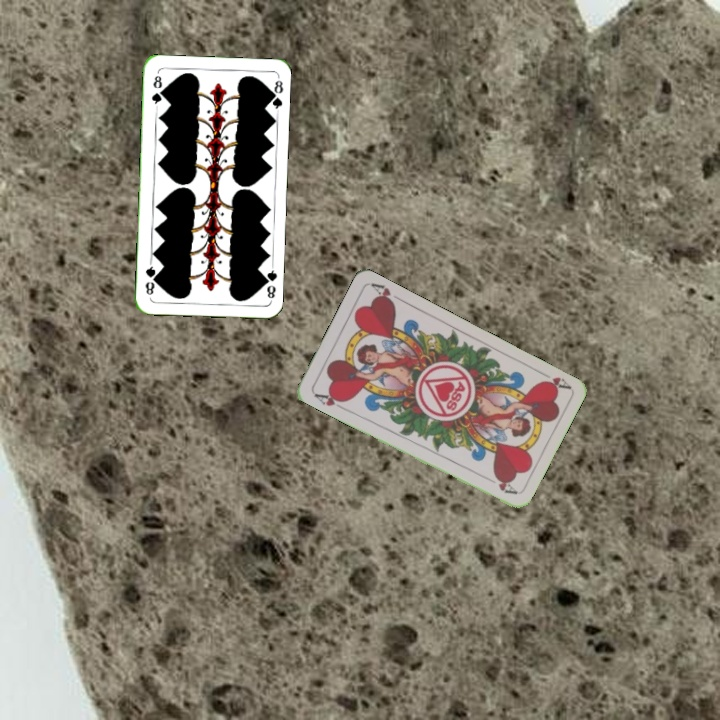G8: (259, 262, 279, 303), (147, 71, 165, 110)
HA: (534, 366, 572, 393), (310, 388, 350, 412)
